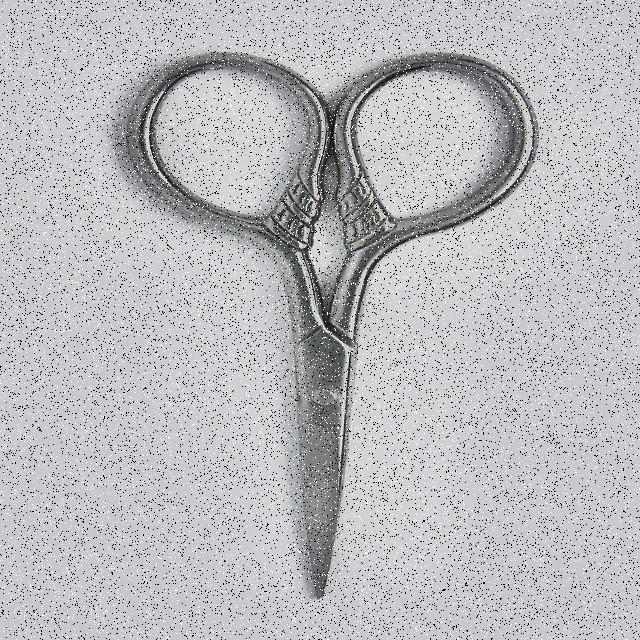scissors: (115, 43, 548, 605)
